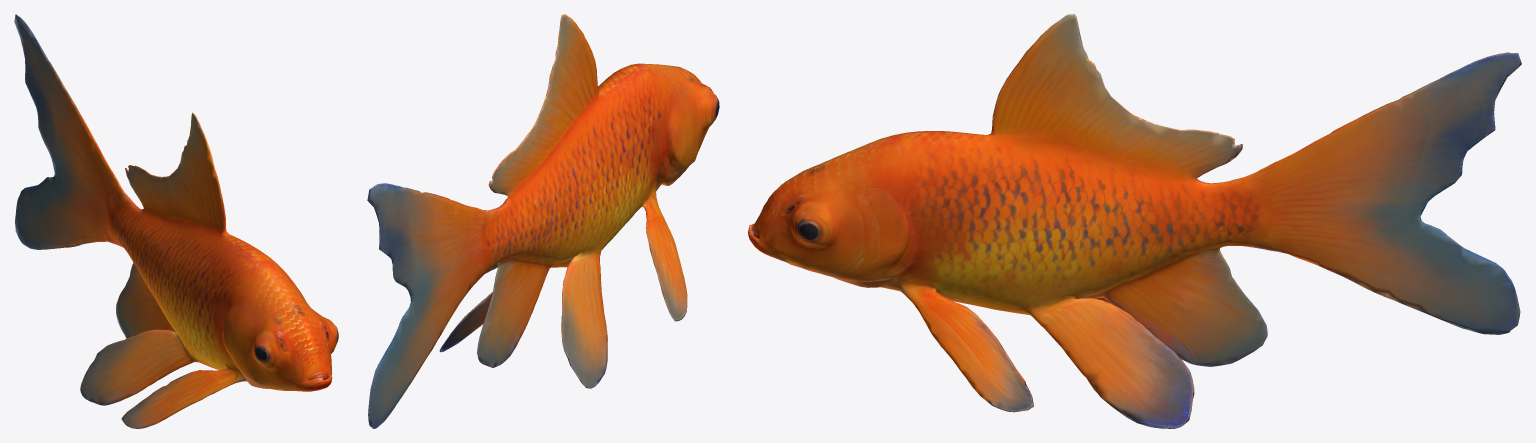
The model's file is koki_0604062454_texture.glb.
3 renders of one model, left to right at view 1: azimuth 30°, elevation 25°; view 2: azimuth 150°, elevation 25°; view 3: azimuth 270°, elevation 25°, orthographic. The views are drawn at different scales.
Size of the model in its own units: 0.6625 by 1.06 by 2.
Materials: 1 (1 with a texture image).
